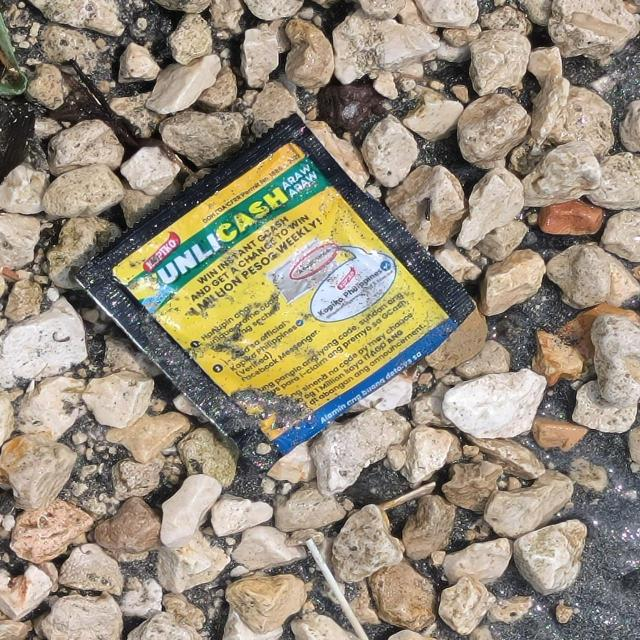plastic_waste: (75, 113, 480, 473)
